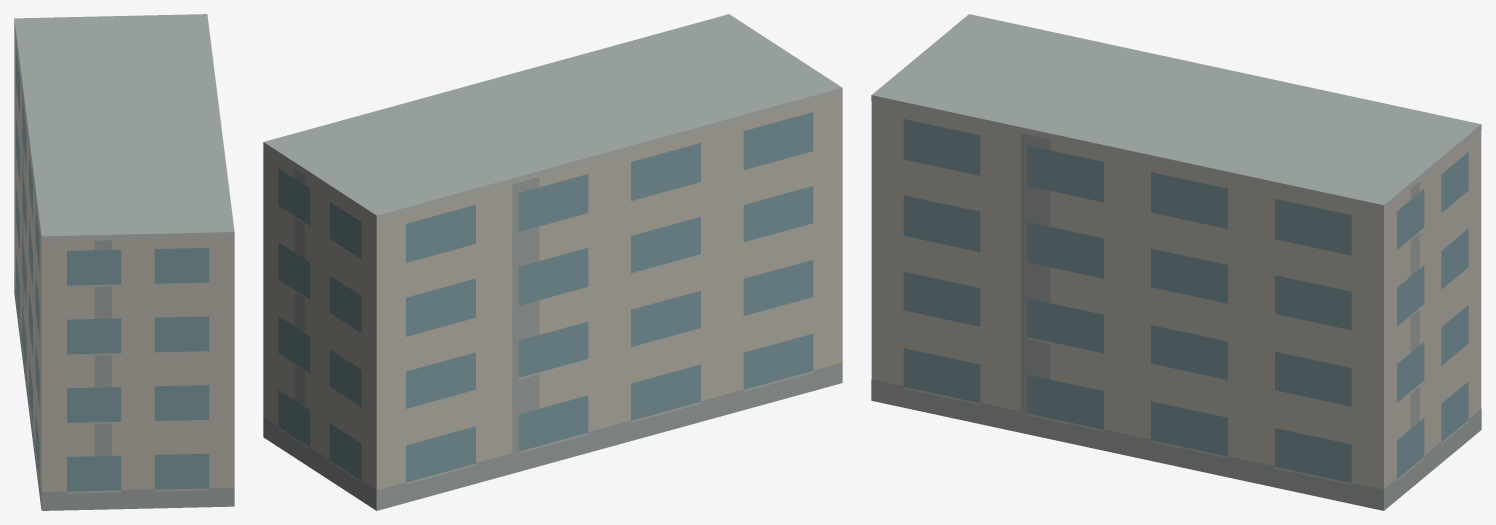
File: residential-26356fca-bfa4-435f-92f5-5b968a23f10c.glb
The picture shows the model from 3 angles, left to right: view 1: azimuth 30°, elevation 25°; view 2: azimuth 150°, elevation 25°; view 3: azimuth 270°, elevation 25°; orthographic projection. The views are drawn at different scales.
Visible parts, largest first — view 1: residential-26356fca-bfa4-435f-92f5-5b968a23f10c.tmp; view 2: residential-26356fca-bfa4-435f-92f5-5b968a23f10c.tmp; view 3: residential-26356fca-bfa4-435f-92f5-5b968a23f10c.tmp.
Part boxes in pixels (left/top/right/bottom): residential-26356fca-bfa4-435f-92f5-5b968a23f10c.tmp: left=14, top=14, right=234, bottom=510; residential-26356fca-bfa4-435f-92f5-5b968a23f10c.tmp: left=263, top=14, right=842, bottom=510; residential-26356fca-bfa4-435f-92f5-5b968a23f10c.tmp: left=871, top=14, right=1481, bottom=510.
Bounding box in the file's own units: 16.38 × 12.2 × 22.07.
